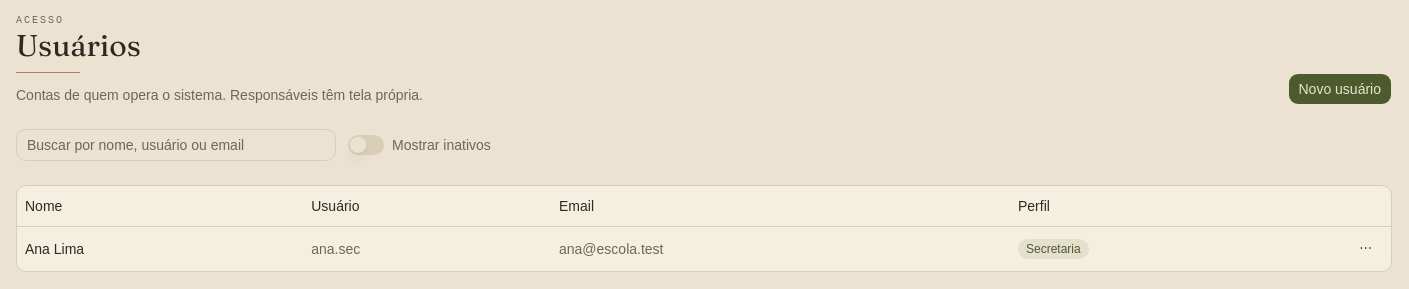
Test: UsuariosPage › esconde inativos até o toggle, e aí mostra só eles
Expected: the text "Ana Lima" is shown, [25,240,84,256]
Expected: the text "Carlos Dias" is not shown
Step 1. Click the switch named "Mostrar inativos" → (366, 145), box [348,135,384,155]
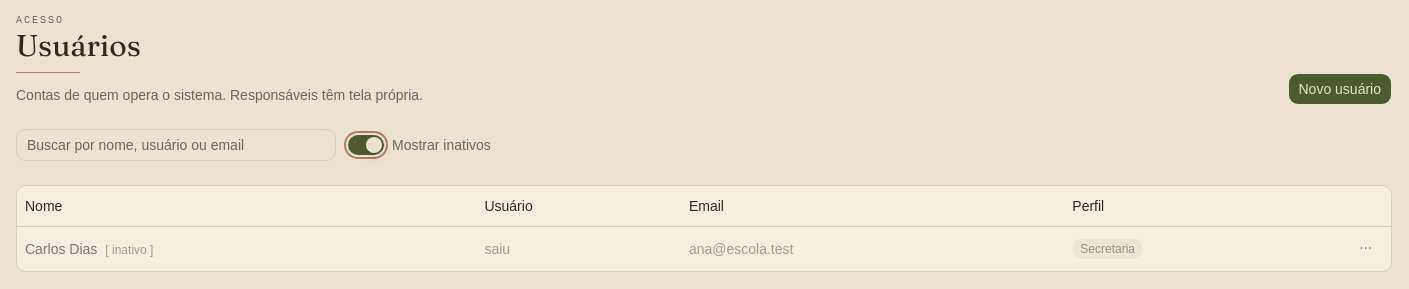
Now the text "Carlos Dias" is shown, box [25,240,97,256]
Now the text "[ inativo ]" is shown, box [105,242,153,256]
Now the text "Ana Lima" is gone
